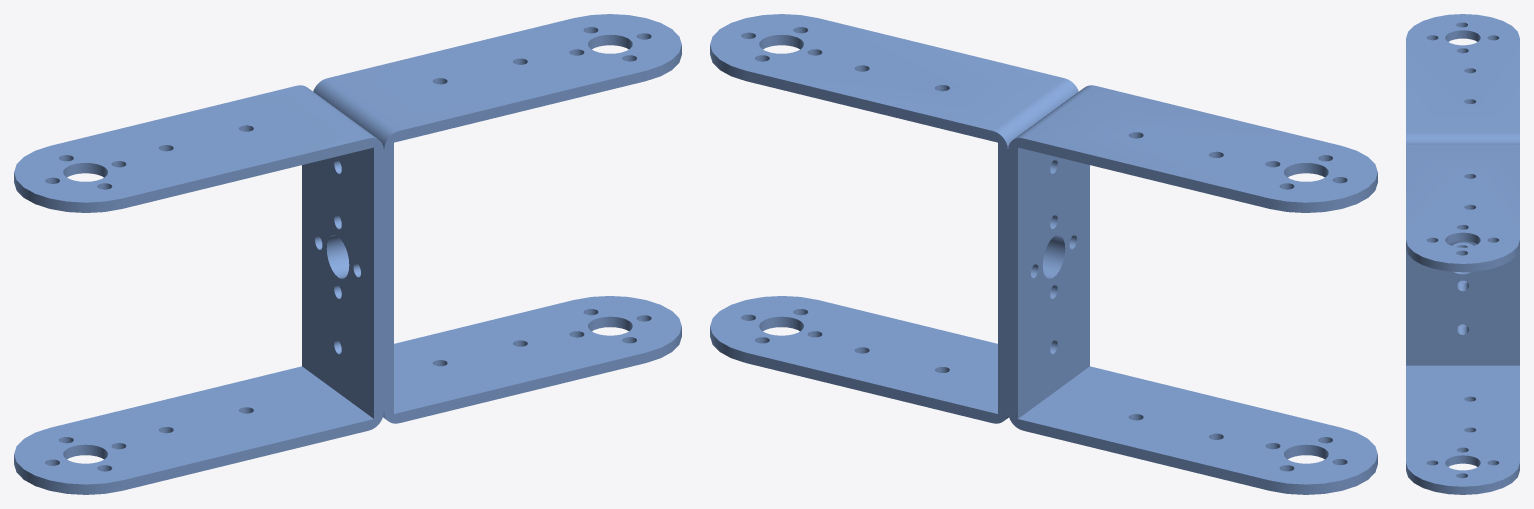
The picture shows the model from 3 angles, left to right: view 1: azimuth 30°, elevation 25°; view 2: azimuth 150°, elevation 25°; view 3: azimuth 270°, elevation 25°; orthographic projection. The views are drawn at different scales.
Visible parts, largest first — view 1: mesh4; view 2: mesh4; view 3: mesh4.
Boxes of the visible parts, left/top/right/bottom form: mesh4: left=14, top=14, right=681, bottom=494; mesh4: left=710, top=14, right=1377, bottom=494; mesh4: left=1406, top=14, right=1519, bottom=494.
Size of the model in its own units: 0.13 by 0.056 by 0.025.
